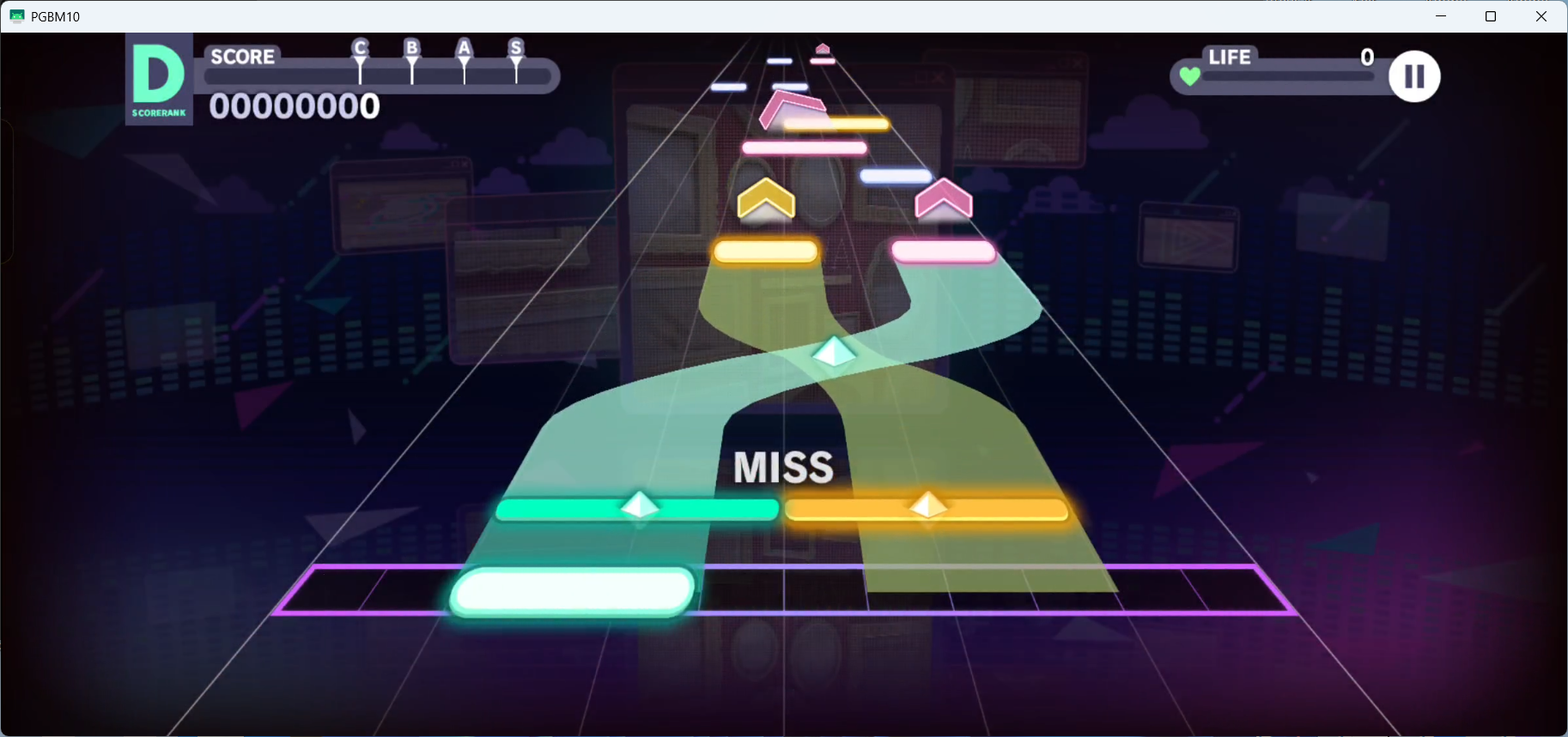flick: (757, 89, 826, 130), (915, 178, 971, 225), (738, 178, 795, 221), (816, 43, 829, 52)
hold: (500, 264, 1044, 498), (696, 266, 1061, 492), (859, 521, 1117, 593), (462, 523, 711, 564)
sweep: (495, 492, 781, 524), (785, 492, 1071, 522), (813, 336, 856, 378)
tap: (447, 565, 694, 616), (891, 239, 995, 263), (714, 241, 817, 263), (741, 142, 867, 153), (783, 118, 888, 130), (859, 169, 933, 184), (771, 82, 808, 91), (709, 82, 746, 91), (765, 57, 792, 64), (810, 57, 836, 64)
